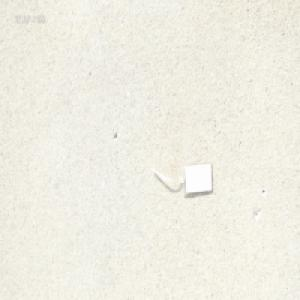LuggageTag: (150, 161, 213, 197)
